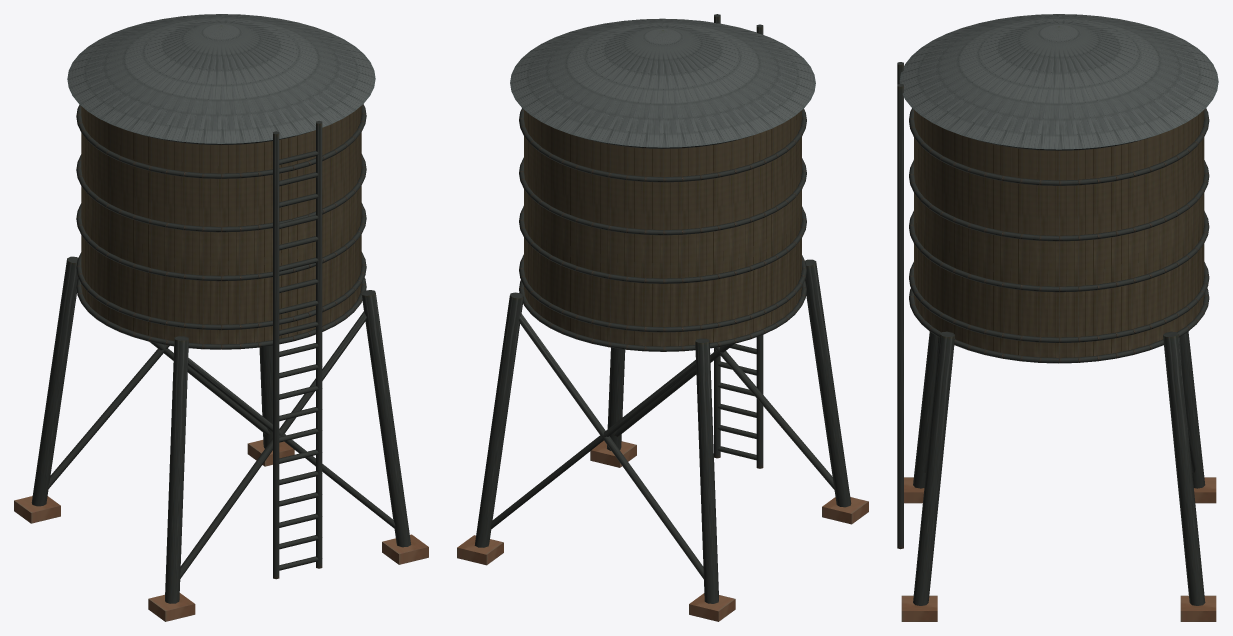
The model's file is city-water-tower.glb.
The picture shows the model from 3 angles, left to right: view 1: azimuth 30°, elevation 25°; view 2: azimuth 150°, elevation 25°; view 3: azimuth 270°, elevation 25°; orthographic projection. The views are drawn at different scales.
Parts seen in each view (by area): view 1: city-water-tower.001; view 2: city-water-tower.001; view 3: city-water-tower.001.
Boxes of the visible parts, x1,y1,x2,y2 form: city-water-tower.001: [14, 14, 428, 621]; city-water-tower.001: [457, 14, 868, 621]; city-water-tower.001: [897, 14, 1218, 621].
Bounding box in the file's own units: 3.49 × 6.36 × 3.5.
1 material, 1 textured.
